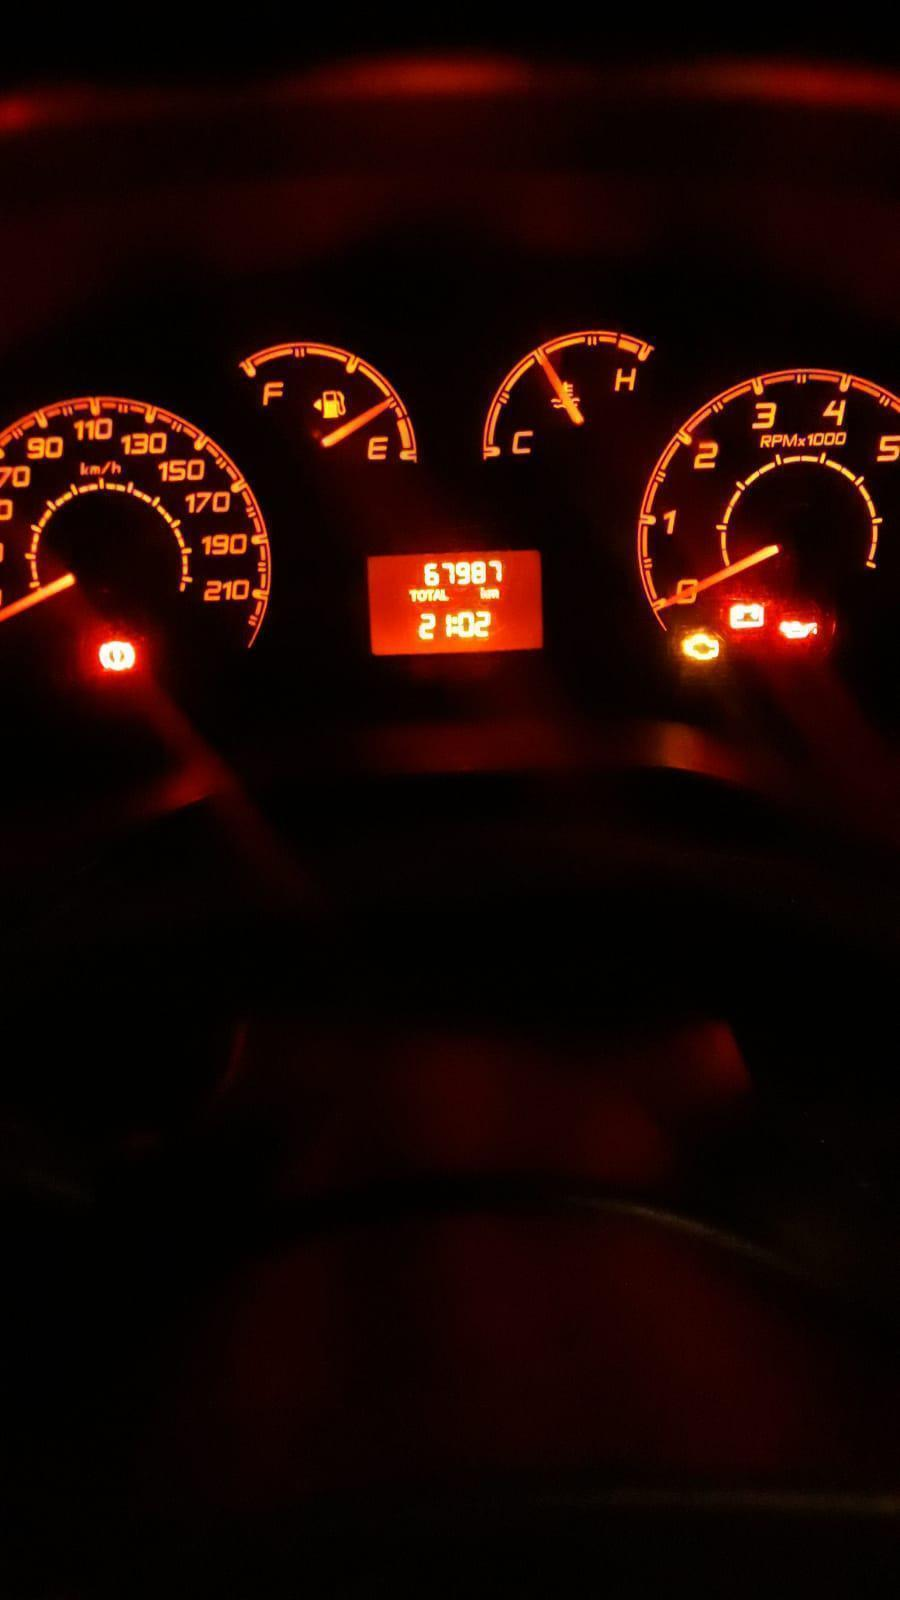0: (457, 609, 475, 637)
1: (442, 611, 451, 638)
2: (474, 608, 492, 638), (419, 611, 436, 638)
6: (422, 562, 438, 584)
7: (488, 558, 503, 582), (441, 562, 456, 584)
8: (471, 559, 487, 584)
9: (456, 559, 471, 585)
X: (489, 587, 501, 600), (451, 613, 457, 637), (441, 588, 451, 602), (416, 588, 426, 601), (408, 588, 416, 601), (480, 586, 488, 600), (433, 588, 440, 601), (427, 587, 433, 601)
odometer: (362, 546, 549, 657)
